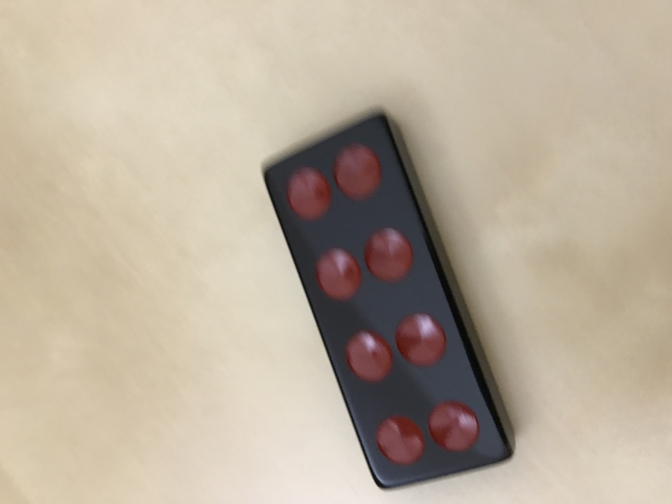man: (260, 106, 515, 489)
